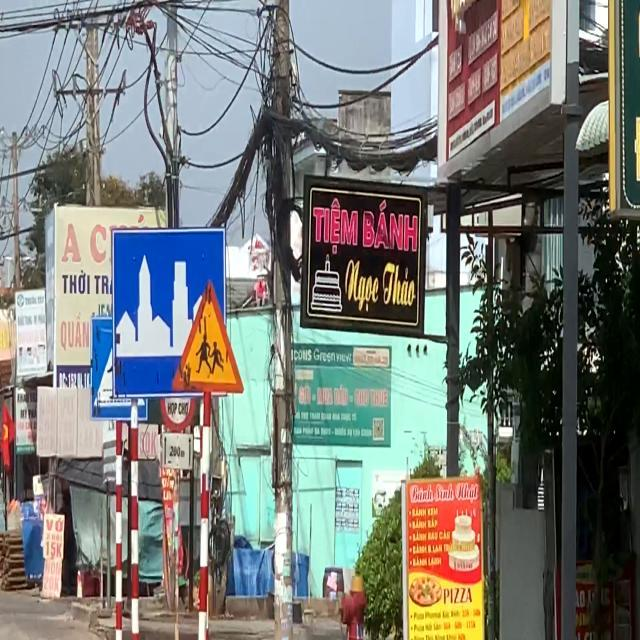W-224: (171, 279, 242, 392)
